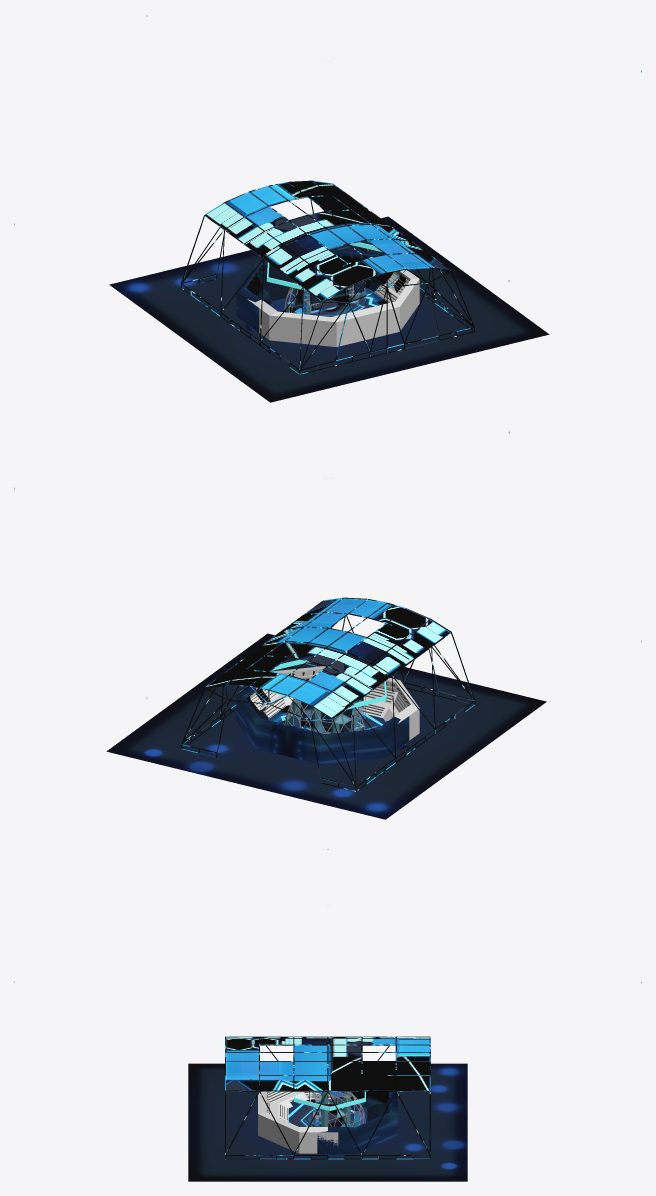
File: esc-concierto-v1.glb
The picture shows the model from 3 angles, top to bottom: view 1: azimuth 30°, elevation 25°; view 2: azimuth 150°, elevation 25°; view 3: azimuth 270°, elevation 25°; orthographic projection. The views are drawn at different scales.
Parts seen in each view (by area): view 1: floor_floor_0_8, TentCanopy_0_186, main_772_129, main_772.002_270; view 2: floor_floor_0_8, TentCanopy_0_186, main_772.002_270, main_772_129, GeoDomeQuarter_0_14, Cube.028_37.002_265; view 3: floor_floor_0_8, TentCanopy_0_186, main_772.002_270, main_772_129, GeoDomeQuarter_0_14.
Part boxes in pixels (x1,y1,x2,y2): floor_floor_0_8: [109, 216, 549, 402]; TentCanopy_0_186: [181, 180, 474, 374]; main_772_129: [247, 270, 419, 347]; main_772.002_270: [236, 249, 406, 332]; floor_floor_0_8: [106, 633, 546, 819]; TentCanopy_0_186: [181, 597, 475, 791]; main_772.002_270: [236, 687, 409, 764]; main_772_129: [250, 666, 419, 740]; GeoDomeQuarter_0_14: [285, 701, 364, 733]; Cube.028_37.002_265: [250, 678, 408, 718]; floor_floor_0_8: [188, 1063, 467, 1181]; TentCanopy_0_186: [225, 1036, 430, 1159]; main_772.002_270: [317, 1091, 397, 1153]; main_772_129: [258, 1091, 338, 1153]; GeoDomeQuarter_0_14: [327, 1091, 365, 1126].
Bounding box in the file's own units: 200 × 77.25 × 200.
24 materials, 17 textured.
